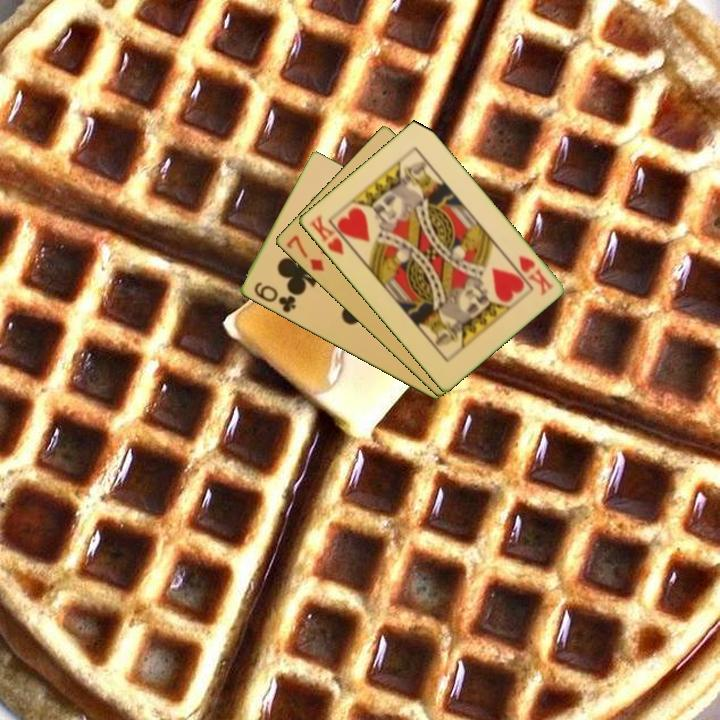6c: (250, 278, 299, 316)
7d: (282, 232, 327, 274)
Kh: (305, 211, 355, 258), (514, 252, 556, 298)
